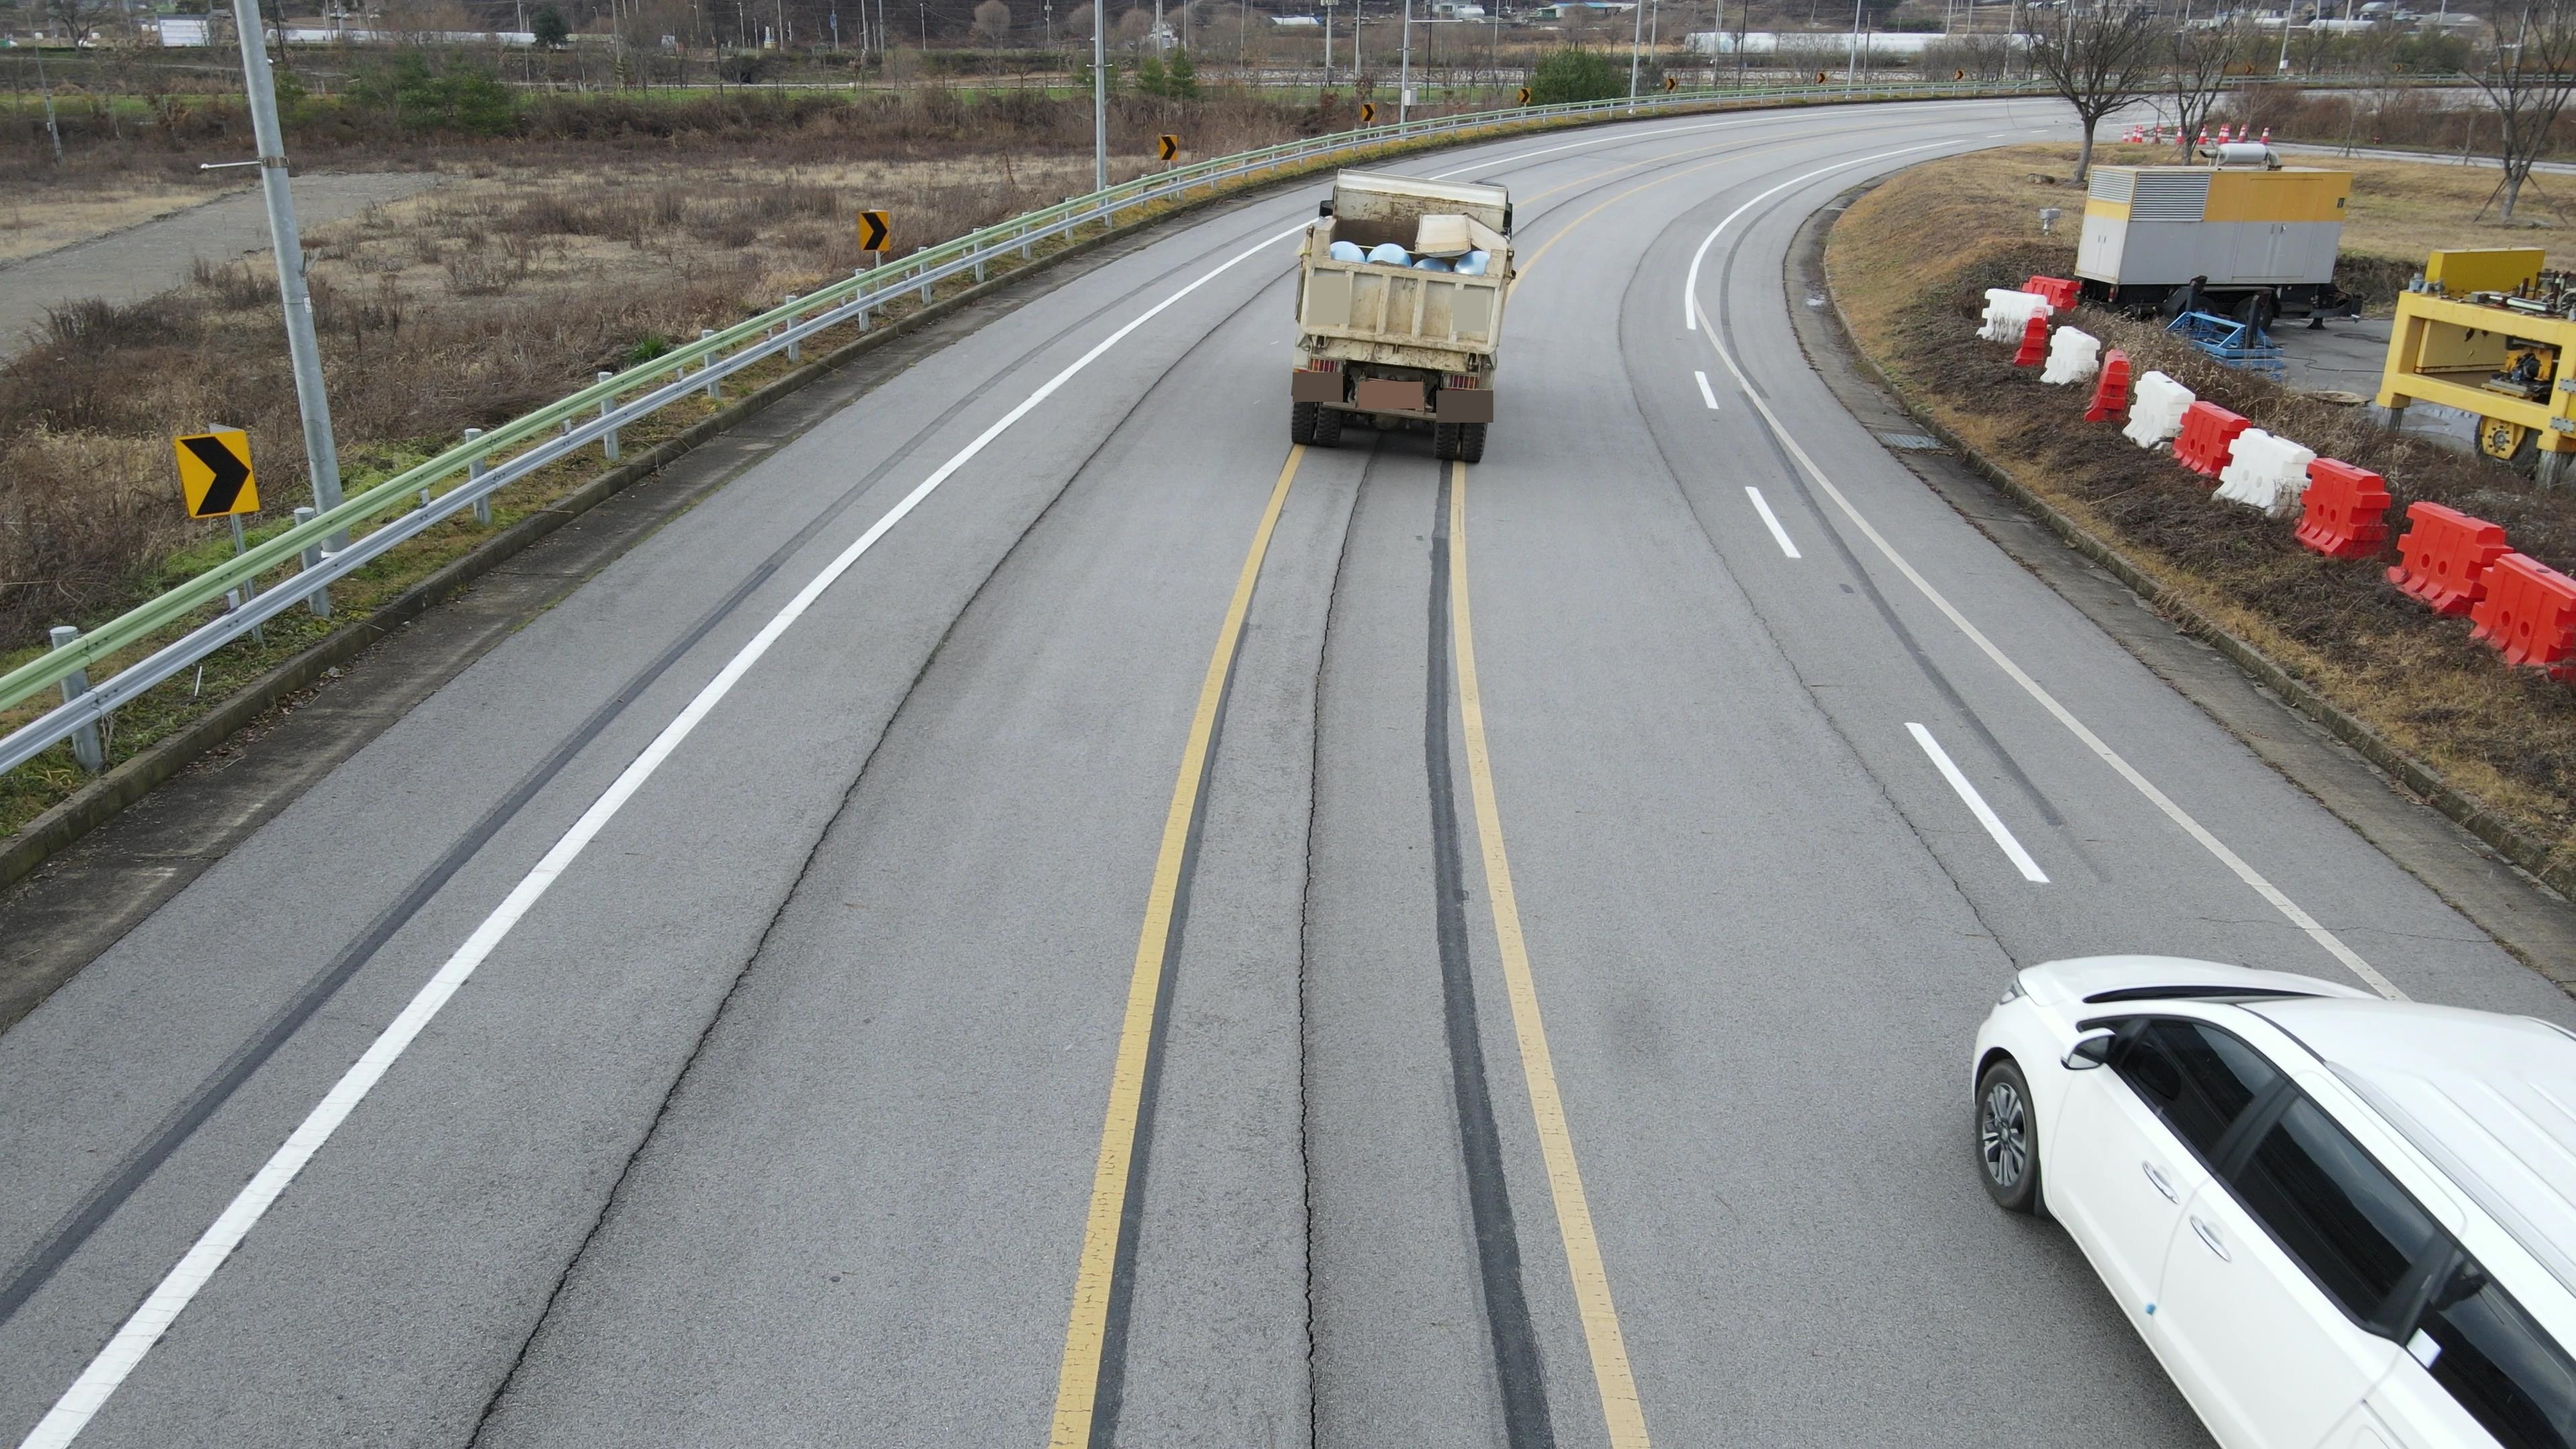불법차량: (1291, 168, 1517, 466)
